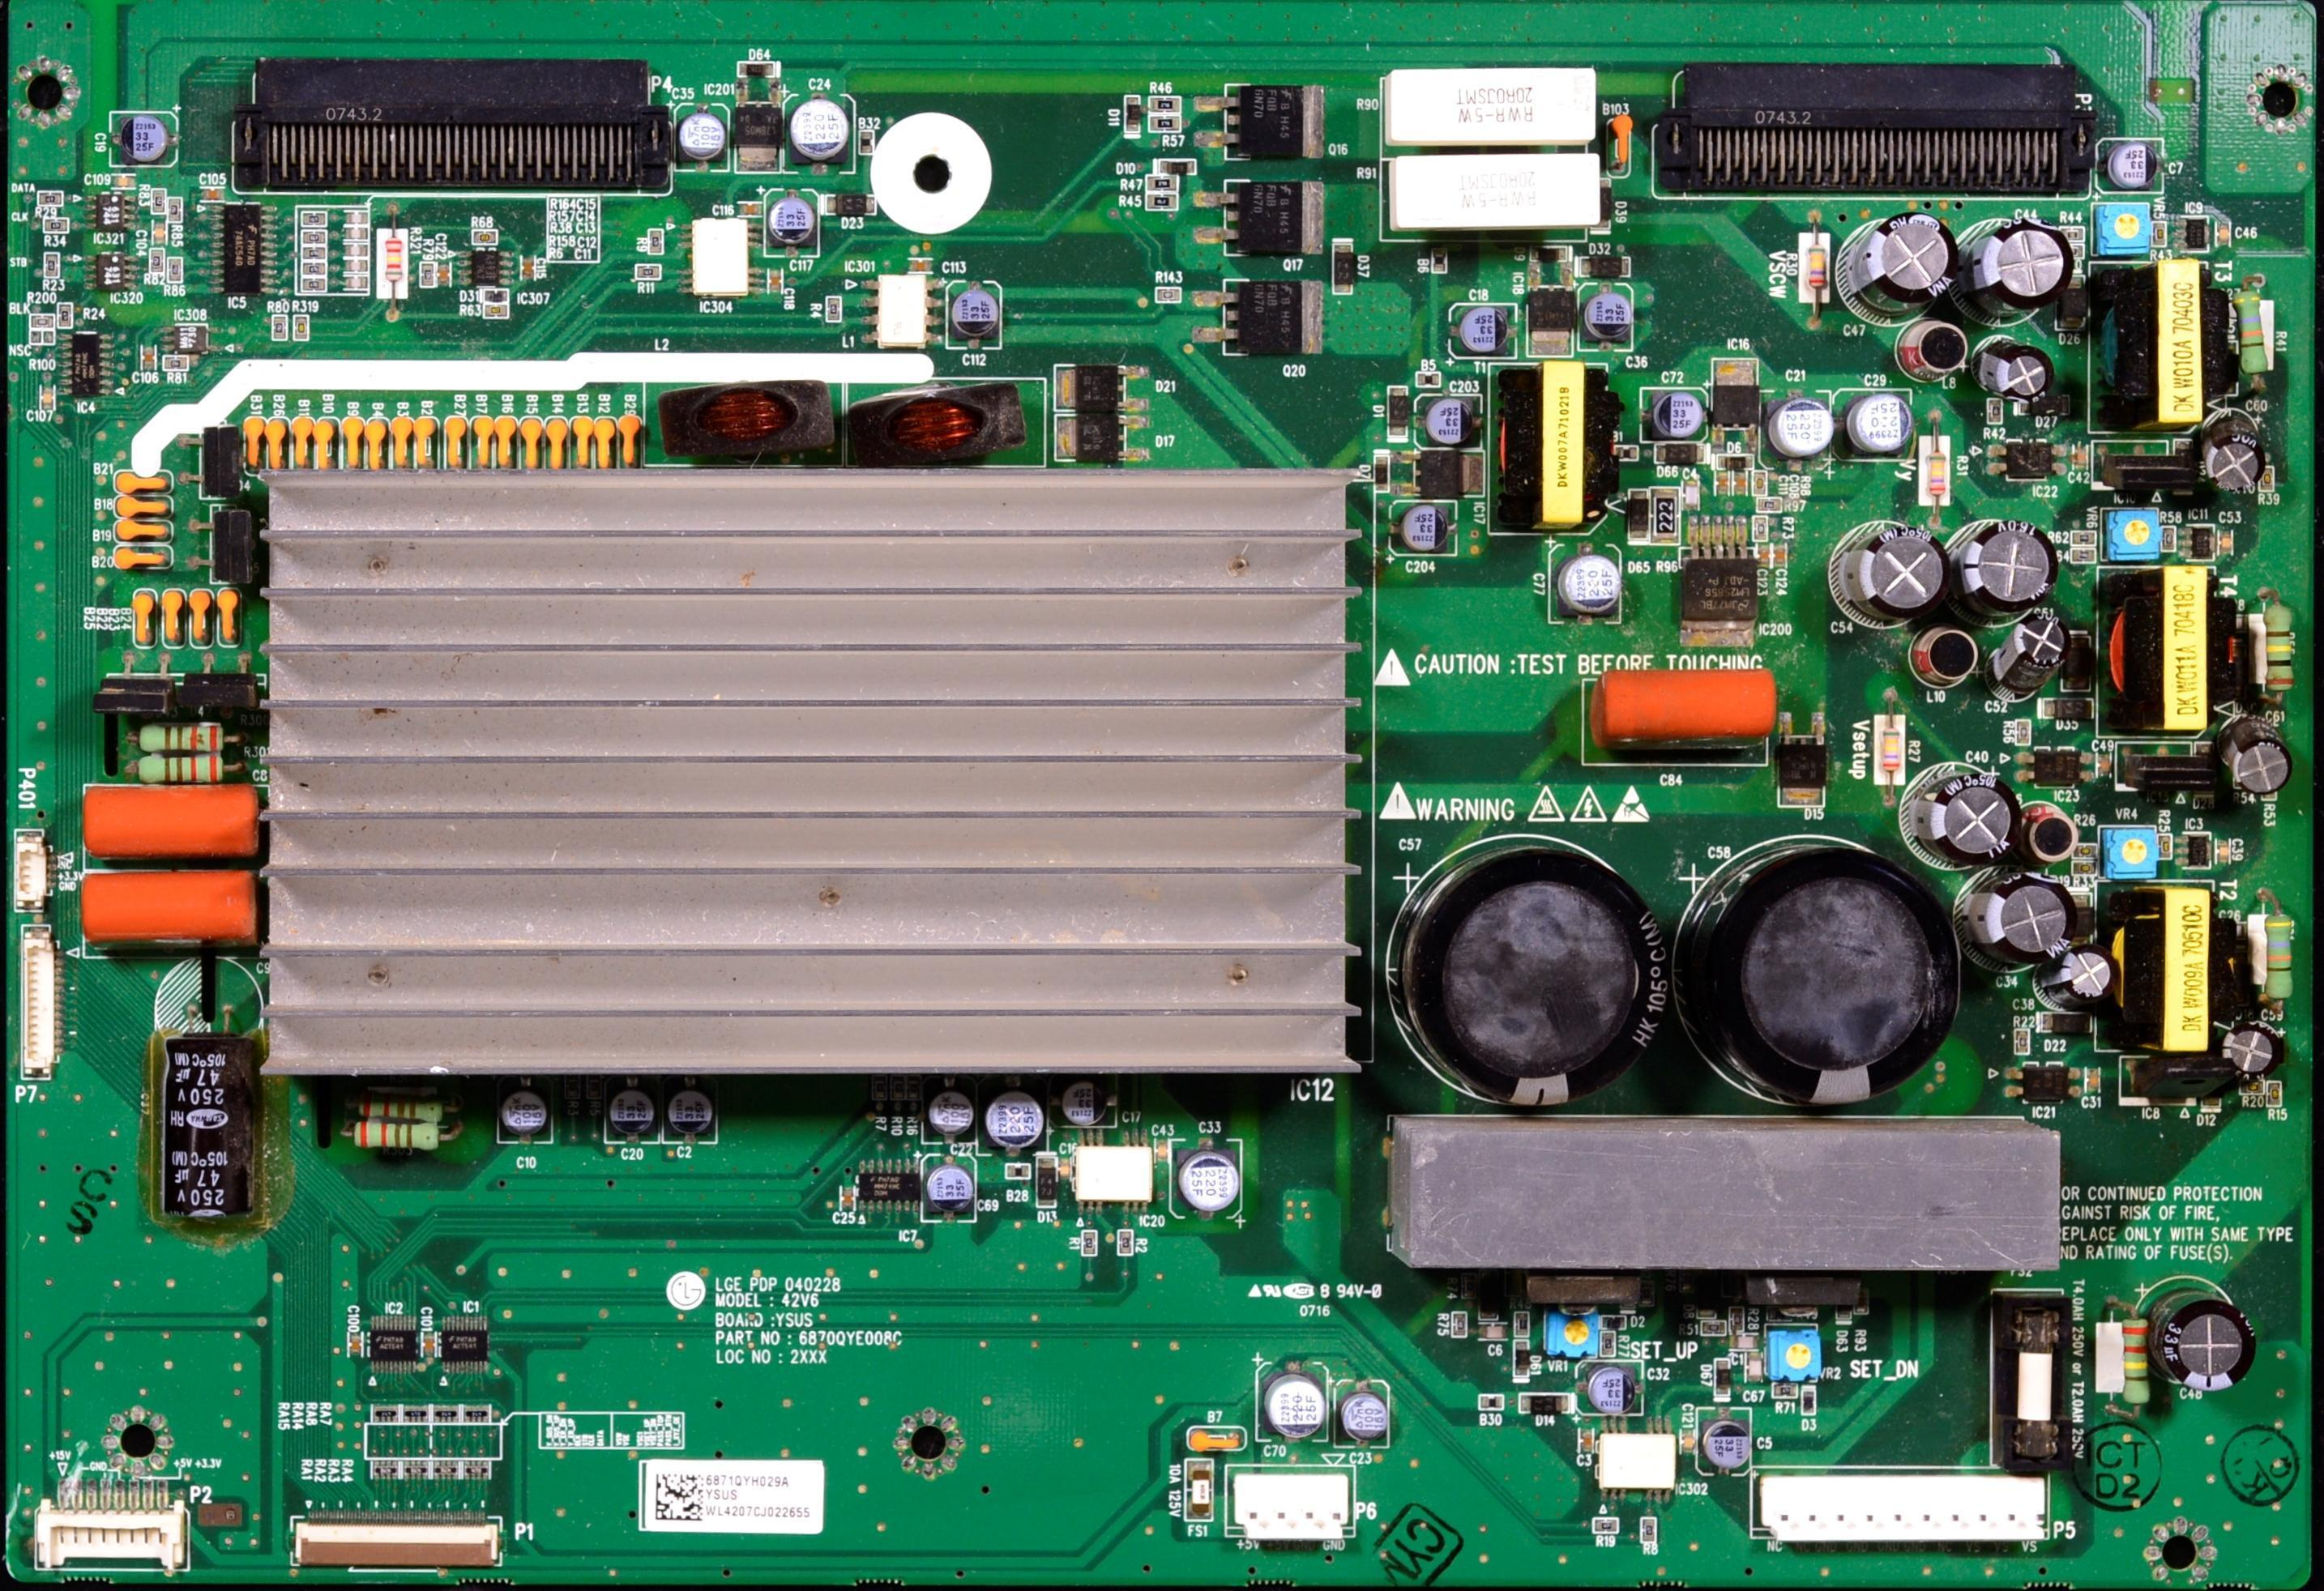Capacitor: (1392, 836, 1669, 1110), (1682, 840, 1960, 1105), (1577, 667, 1771, 770), (1839, 215, 1941, 322), (1953, 217, 2052, 328), (1845, 523, 1953, 621), (2159, 1291, 2256, 1393), (1966, 873, 2075, 958), (1918, 777, 2023, 863), (1965, 521, 2057, 609), (1991, 612, 2070, 697), (1762, 390, 1833, 480), (1168, 1142, 1242, 1223), (1552, 542, 1621, 623), (1260, 1363, 1327, 1446), (1835, 390, 1913, 460), (785, 96, 852, 173), (2207, 415, 2264, 490), (1980, 345, 2054, 400), (2049, 943, 2118, 1003), (764, 188, 821, 259), (1449, 304, 1520, 360), (1338, 1367, 1387, 1448), (108, 110, 177, 167), (2228, 719, 2285, 786), (1579, 284, 1635, 352), (949, 278, 1002, 347), (1415, 396, 1483, 449), (1643, 385, 1706, 441), (677, 106, 731, 173), (1698, 1406, 1751, 1474), (1391, 500, 1455, 555), (983, 1094, 1050, 1144), (2098, 140, 2164, 191), (1579, 1363, 1644, 1414), (666, 1082, 723, 1139), (922, 1158, 969, 1223), (499, 1086, 551, 1145), (2224, 1027, 2284, 1073), (920, 1088, 970, 1145), (609, 1088, 658, 1145), (1061, 1077, 1106, 1124), (1476, 1319, 1510, 1340), (1681, 476, 1701, 513), (1745, 1354, 1763, 1385), (1733, 466, 1749, 497), (1680, 1429, 1696, 1458), (2074, 441, 2090, 472), (1758, 540, 1773, 570), (1154, 1137, 1170, 1164), (2214, 219, 2232, 245), (142, 345, 157, 372), (2216, 836, 2231, 866), (907, 260, 935, 274), (2219, 527, 2233, 557), (1772, 543, 1789, 569), (421, 1330, 436, 1359), (1580, 1426, 1594, 1453), (41, 383, 55, 411), (1732, 1336, 1757, 1350), (200, 187, 225, 201), (109, 175, 139, 187), (2096, 753, 2111, 778), (153, 221, 165, 245), (1715, 471, 1728, 497), (350, 1329, 361, 1356), (440, 263, 449, 287), (771, 271, 781, 293)
Connector: (234, 58, 673, 197), (1653, 64, 2091, 196), (1758, 1471, 2055, 1542), (36, 1474, 186, 1576), (285, 1512, 502, 1568), (1224, 1463, 1356, 1549), (22, 925, 61, 1083), (18, 830, 47, 913)
IC: (1683, 541, 1758, 648), (1596, 1418, 1675, 1507), (209, 203, 278, 296), (682, 221, 761, 298), (859, 275, 938, 351), (856, 1154, 920, 1222), (1713, 356, 1757, 447), (1397, 450, 1485, 497), (1981, 439, 2067, 480), (1526, 288, 1573, 359), (734, 100, 780, 173), (2014, 749, 2095, 787), (2001, 1062, 2080, 1101), (443, 1313, 489, 1375), (64, 336, 110, 397), (370, 1315, 418, 1370), (459, 252, 519, 286), (88, 252, 137, 292), (88, 196, 133, 236), (2179, 523, 2219, 561), (2176, 217, 2212, 253), (2177, 832, 2210, 871), (166, 328, 211, 350)
Resistor: (1378, 67, 1600, 143), (1388, 153, 1599, 228), (2255, 889, 2304, 1002), (2259, 588, 2300, 713), (2238, 279, 2276, 401), (129, 719, 247, 754), (346, 1122, 457, 1154), (2122, 1300, 2153, 1415), (344, 1098, 455, 1128), (126, 757, 252, 781), (1925, 413, 1951, 532), (1878, 702, 1903, 805), (1800, 230, 1828, 305), (379, 228, 407, 300), (1650, 487, 1678, 543), (1145, 175, 1178, 193), (1156, 286, 1182, 305), (1149, 96, 1181, 113), (825, 296, 842, 322), (1600, 1331, 1617, 1358), (1749, 469, 1768, 497), (169, 196, 183, 224), (2012, 1027, 2030, 1052), (1149, 116, 1180, 131), (1119, 1228, 1134, 1256), (1147, 194, 1177, 208), (1988, 395, 2002, 426), (2157, 834, 2172, 859), (473, 230, 500, 245), (1641, 1518, 1658, 1541), (1083, 1230, 1097, 1258), (44, 220, 72, 232), (1452, 1313, 1467, 1338), (1772, 1381, 1797, 1397), (2151, 223, 2166, 247), (272, 314, 288, 339), (2258, 467, 2275, 492), (2071, 861, 2097, 876), (2070, 529, 2096, 544), (2162, 526, 2175, 552), (481, 305, 511, 318), (2241, 1080, 2266, 1095), (1729, 1307, 1743, 1332), (38, 191, 67, 203), (45, 254, 58, 279), (636, 266, 660, 279), (293, 317, 307, 341), (60, 303, 73, 331), (30, 328, 57, 341), (2074, 843, 2096, 858), (1702, 1320, 1726, 1334), (2269, 1080, 2281, 1105), (650, 231, 662, 257), (421, 262, 435, 288), (1594, 1518, 1617, 1532), (152, 190, 164, 211), (150, 249, 162, 271), (169, 261, 182, 284), (1758, 499, 1783, 513), (2072, 551, 2095, 564), (2018, 720, 2031, 744), (1516, 1312, 1527, 1337), (2062, 228, 2084, 241), (32, 316, 57, 326), (1754, 518, 1764, 542)
Transistor: (1203, 282, 1326, 359), (1206, 87, 1326, 163), (1210, 176, 1320, 256), (177, 650, 261, 727), (90, 651, 177, 718), (177, 421, 241, 501), (190, 511, 258, 581)
